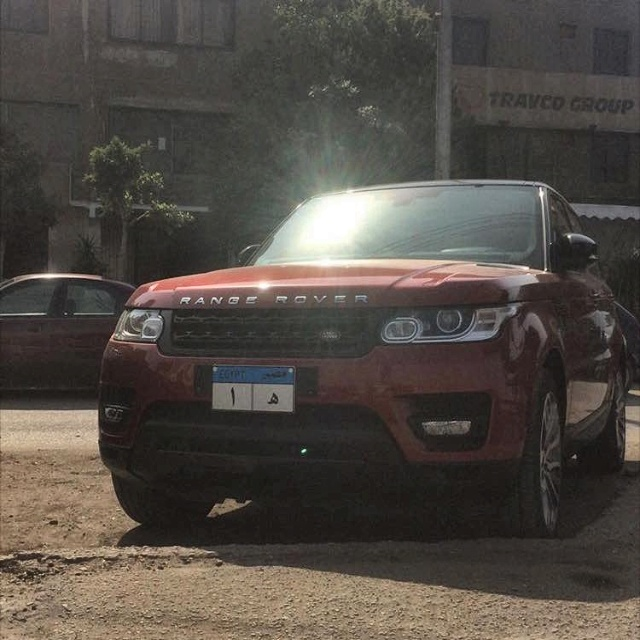License Plate: (209, 363, 297, 416)
